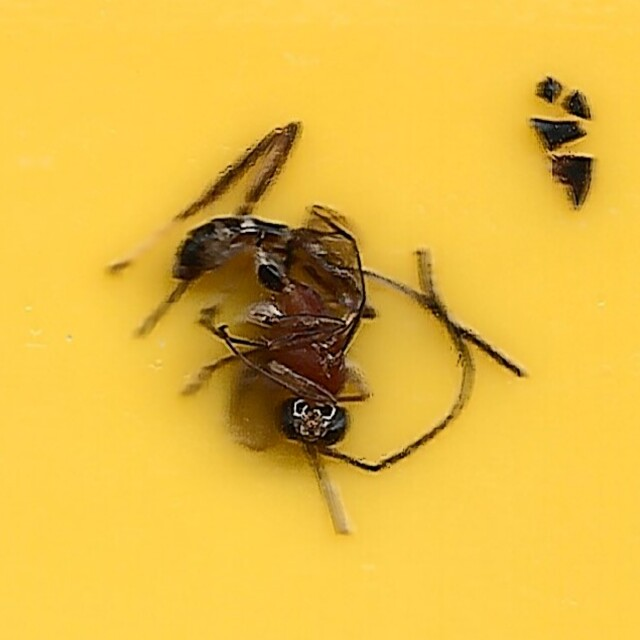Hymenoptera: (101, 111, 539, 529)
